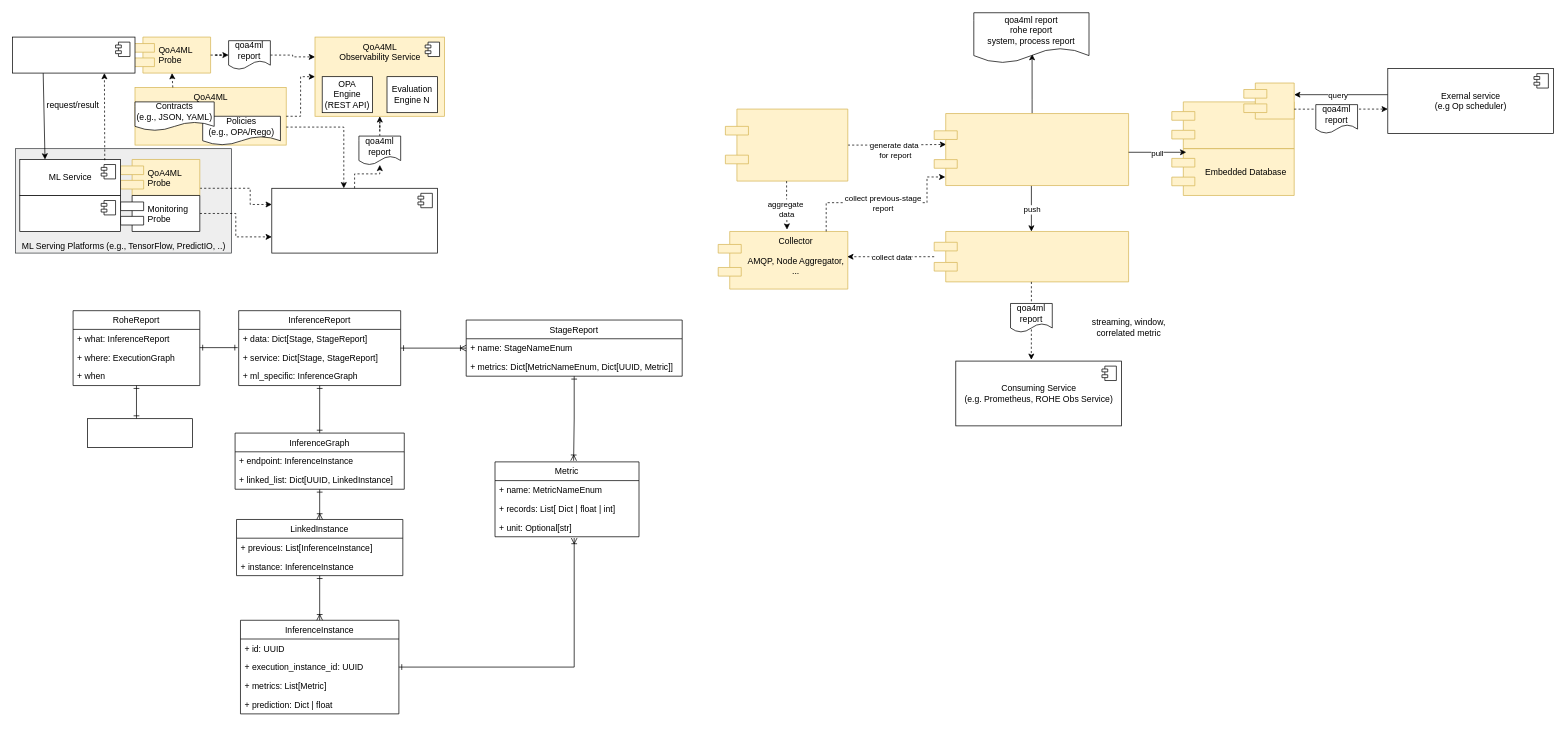
Image size: 1566x729. Some labels were removed from this diagram. Here are the shapes that lost their labels. From the top down, the centre of each, then its label:
[73,54]: ML Consumer
[1268,100]: APIs
[786,144]: QoA4ML Probe system, process probe data quality probe ml quality probe
[1232,125]: Exporter
[1031,149]: QoA Client model: push/pull report: general report/rohe report
[70,213]: ML Platform Service
[354,220]: Monitoring Service (e.g. Prometheus)
[1031,256]: Connector AMQP, MQTT, Prometheus,...
[140,432]: + start_time_stamp + execution_time
